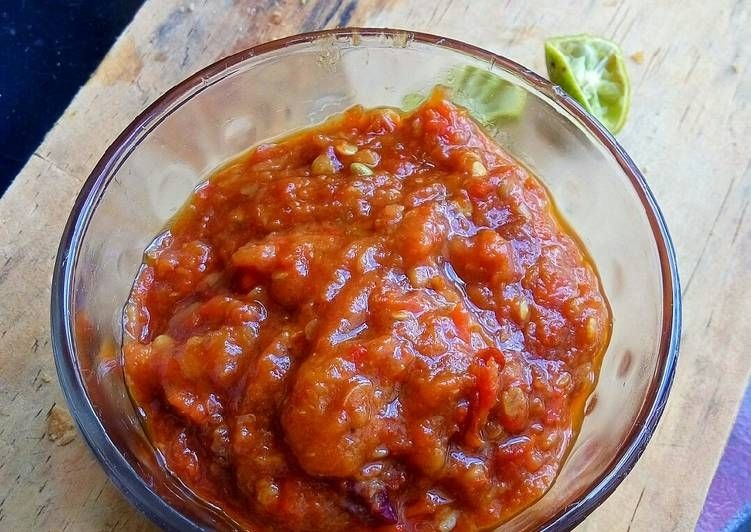sambal: (118, 96, 614, 532)
